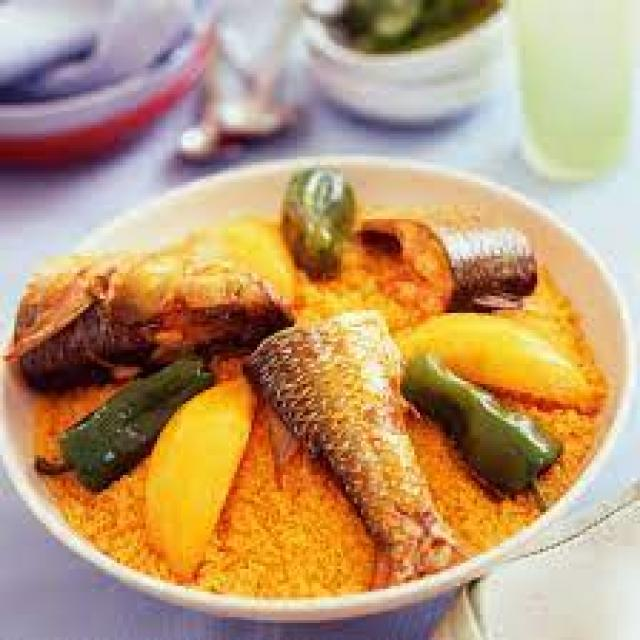Couscous: (9, 156, 595, 612)
